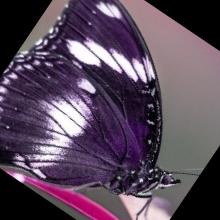butterfly: (0, 0, 180, 195)
